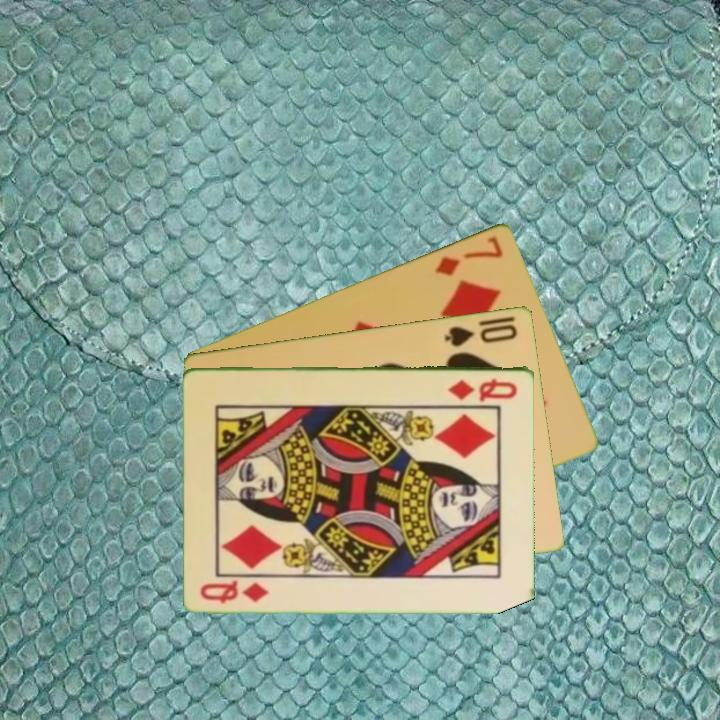10s: (441, 320, 520, 349)
7d: (431, 232, 506, 279)
Qd: (445, 375, 521, 404), (197, 576, 272, 605)
